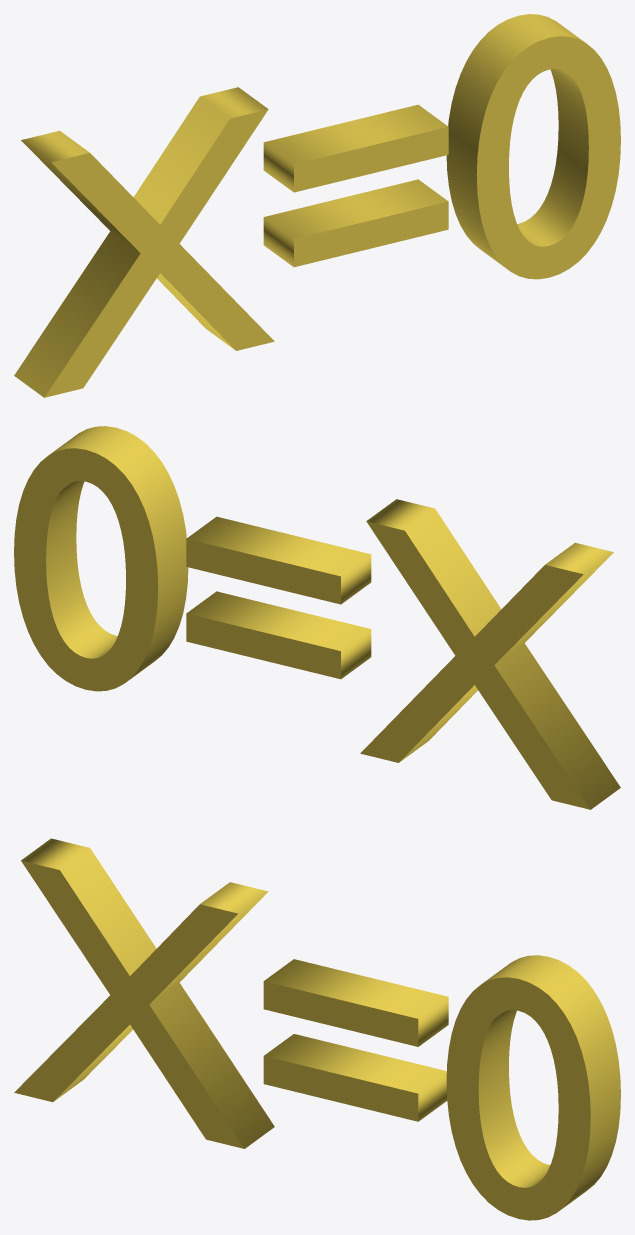
3 renders of one model, top to bottom at view 1: azimuth 30°, elevation 25°; view 2: azimuth 150°, elevation 25°; view 3: azimuth 330°, elevation 25°, orthographic.
Visible parts, largest first — view 1: 0; view 2: 0; view 3: 0.
Boxes of the visible parts, box(x1,y1,x2,y2) form: 0: box(14, 14, 620, 397); 0: box(14, 426, 620, 809); 0: box(14, 838, 620, 1220).
Bounding box in the file's own units: 1.76 × 0.7 × 0.16.
